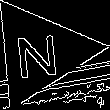N_N: (16, 25, 65, 79)
